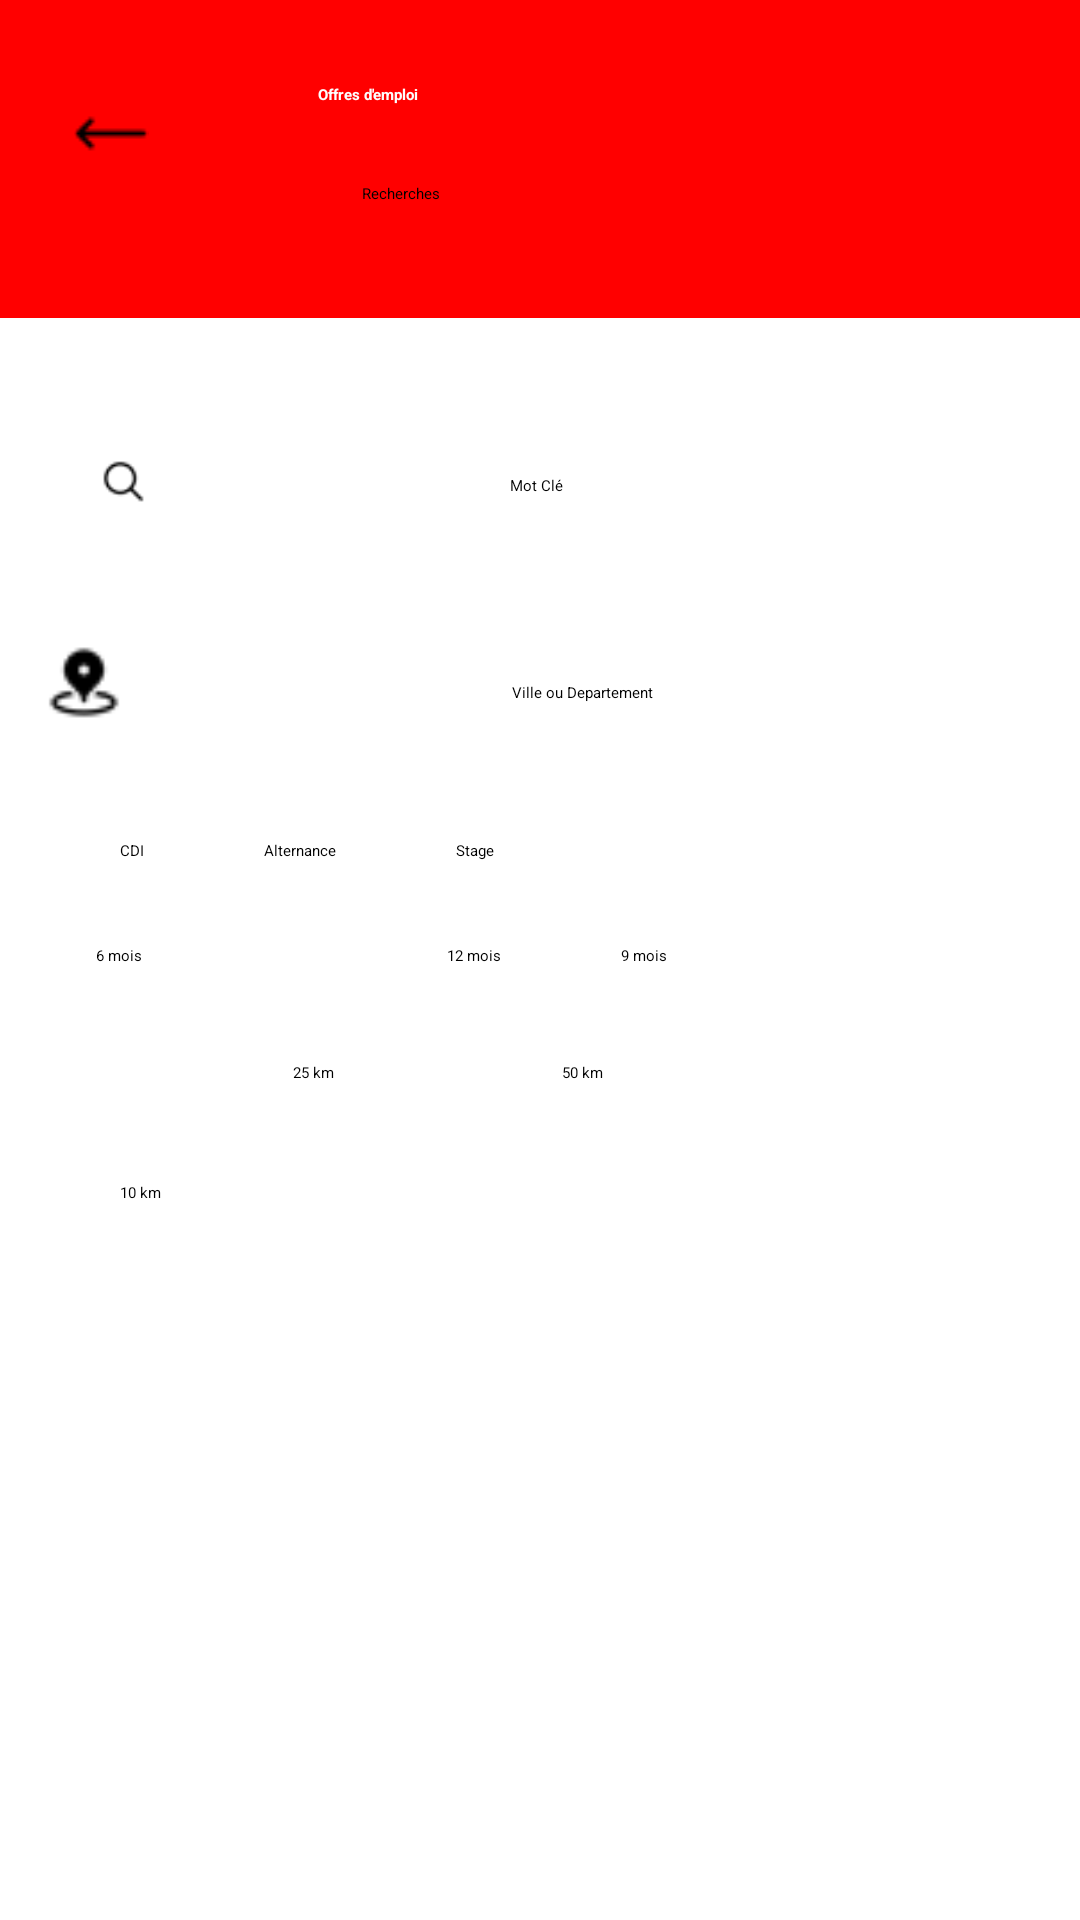

Named icons in this screenshot (1080px×1920px) and their bounding boxes, (x1, y1, x2, y2):
placemarker: (49, 647, 119, 718)
search: (103, 461, 144, 502)
